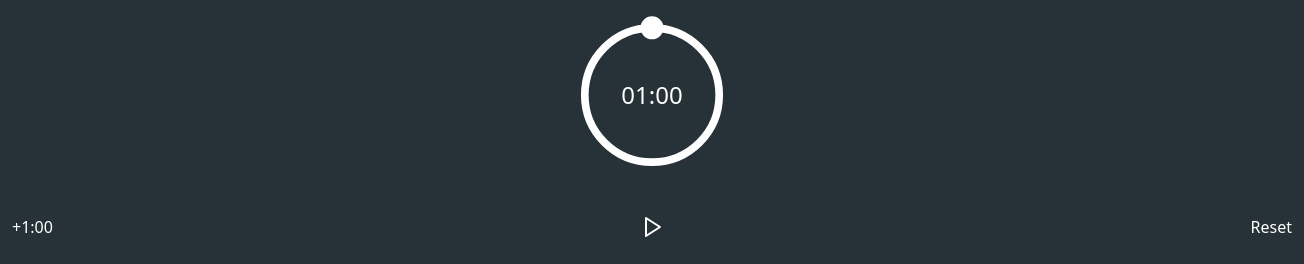
Test: Timer Component › should start the timer when the play button is clicked
What coordinates should you click on to do the following:
click the button named "Start timer"
I would click on:
 (652, 227)
Its box is x1=632 y1=207 x2=672 y2=247.
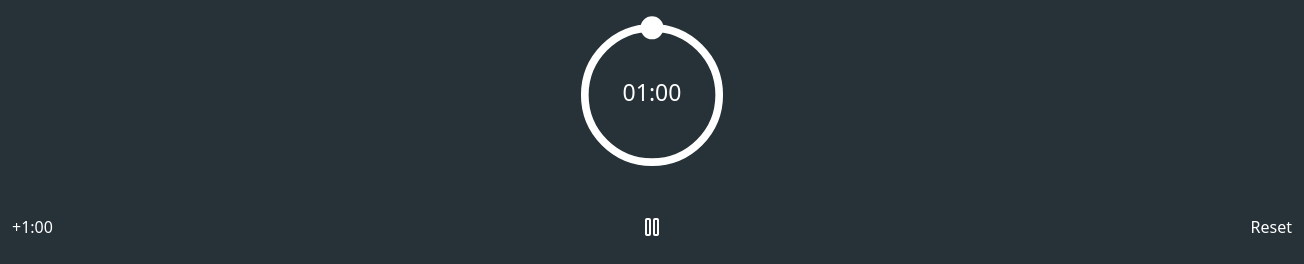
Now the button named "Pause timer" is shown, box x1=632 y1=207 x2=672 y2=247
